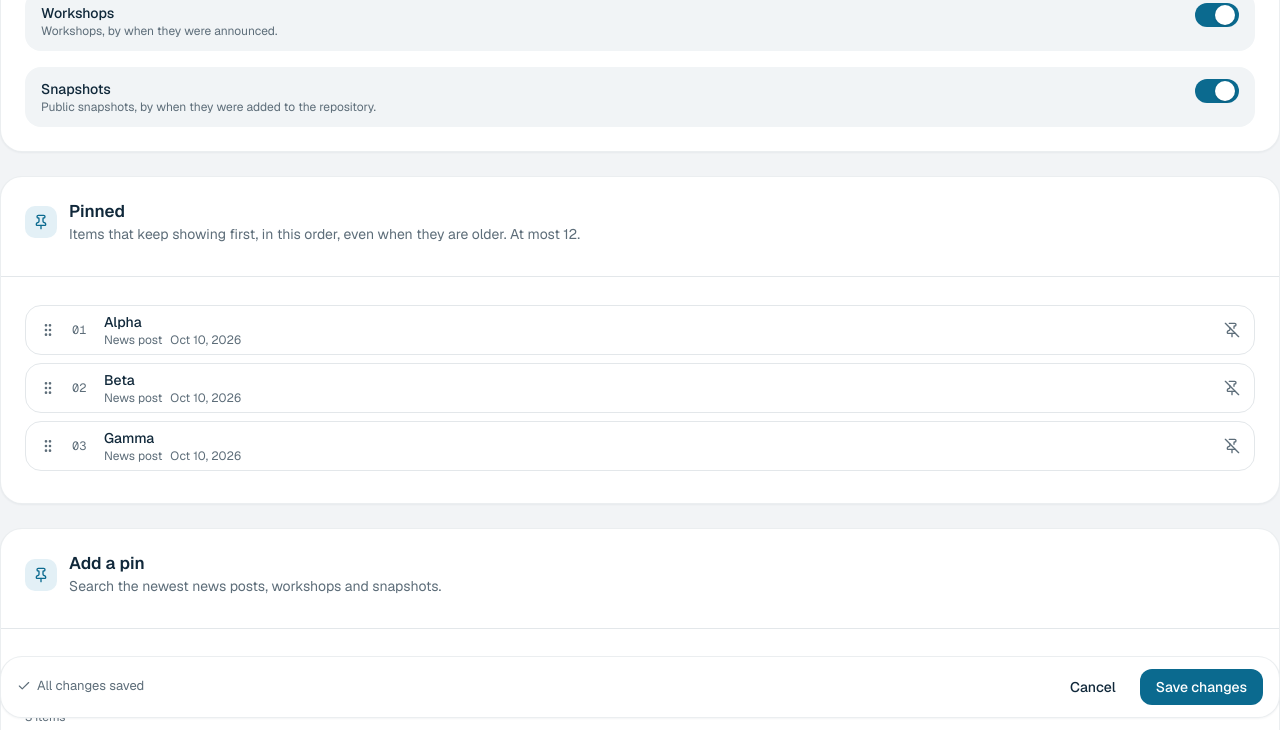
Test: the Latest updates page › the pinned list › unpins a row, and the picker then offers it again
(page scrolled)
Click the button named "Unpin Alpha" at (1232, 330), box [1216,314,1248,346]
(page scrolled)
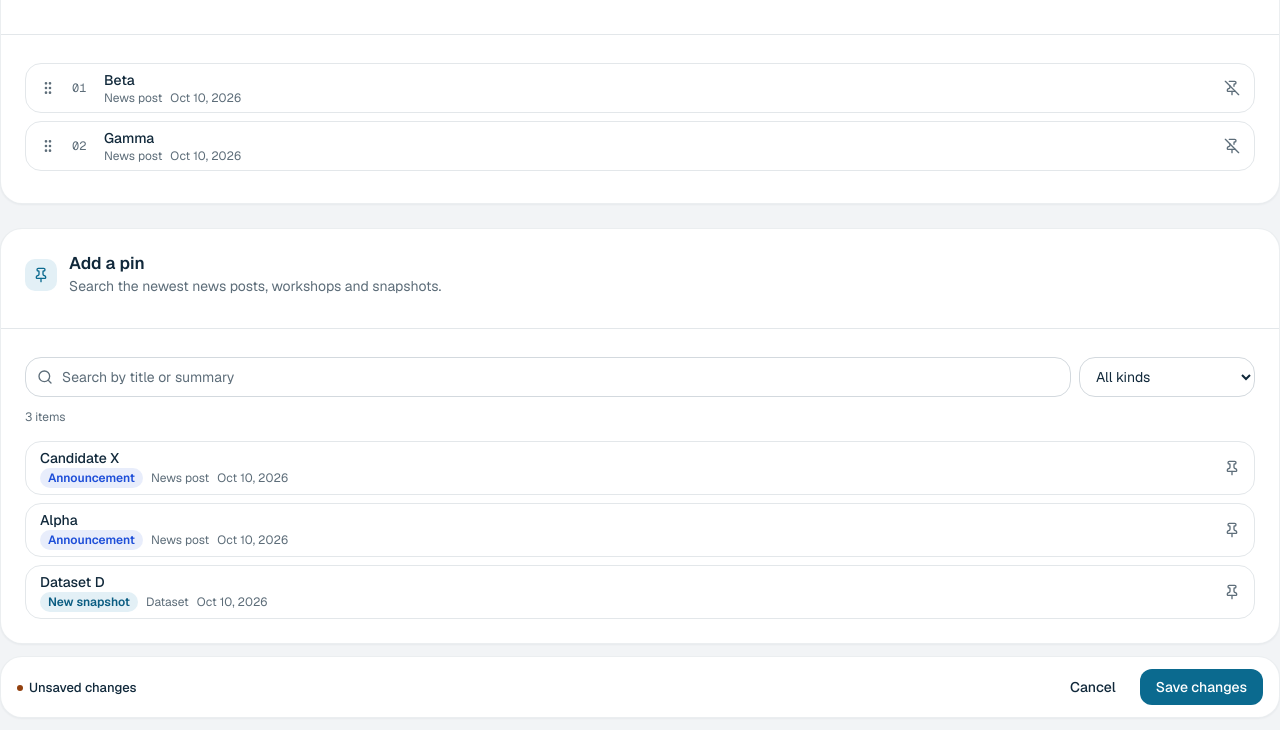
Result: the button named "Pin Alpha" is enabled at [1216,514,1248,546]
